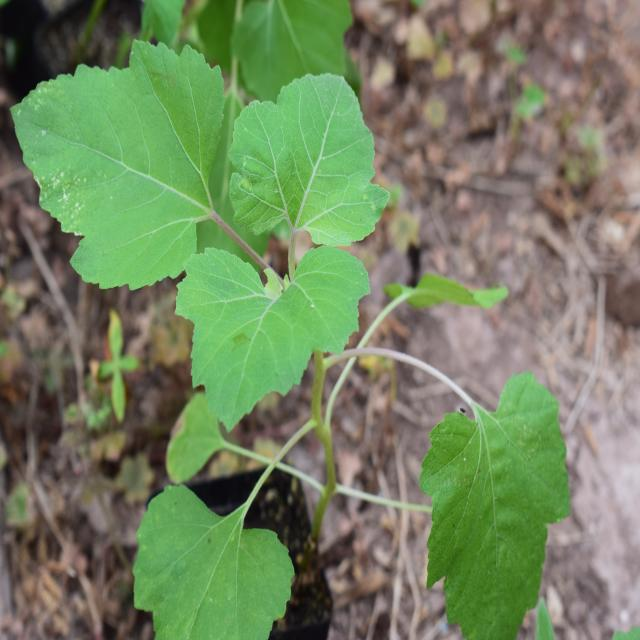cocklebur: (17, 51, 547, 580)
